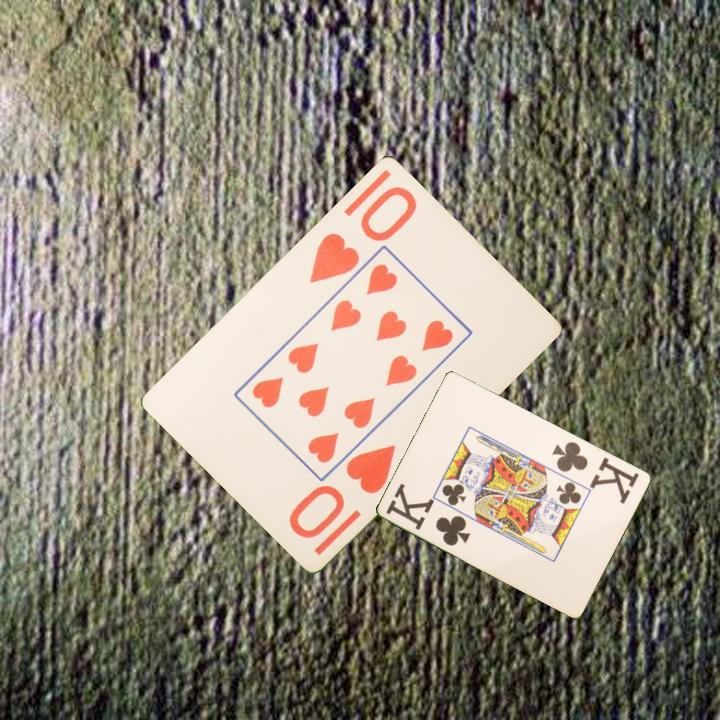10h: (305, 181, 420, 286), (285, 440, 399, 542)
Kc: (548, 438, 642, 506), (383, 481, 474, 549)
